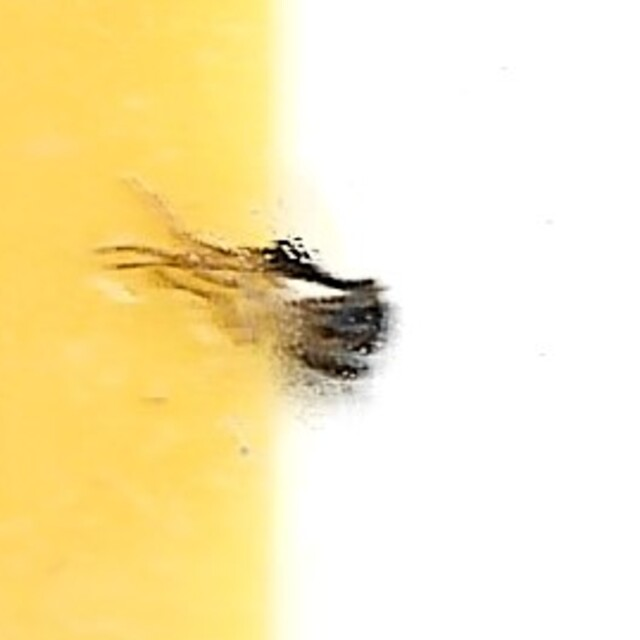Brachycera: (238, 231, 402, 409)
